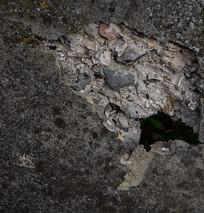Spalling: (55, 19, 204, 189), (135, 109, 199, 153)
